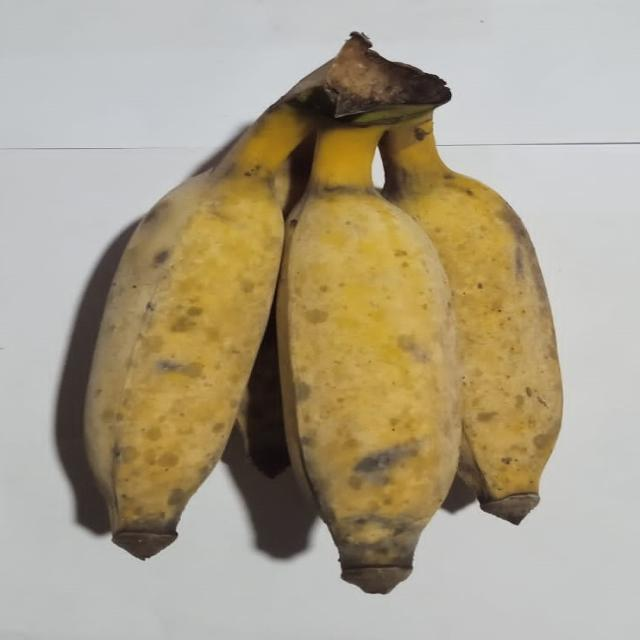banana: (86, 102, 313, 558), (277, 126, 460, 593), (381, 116, 562, 523), (237, 308, 288, 477)
